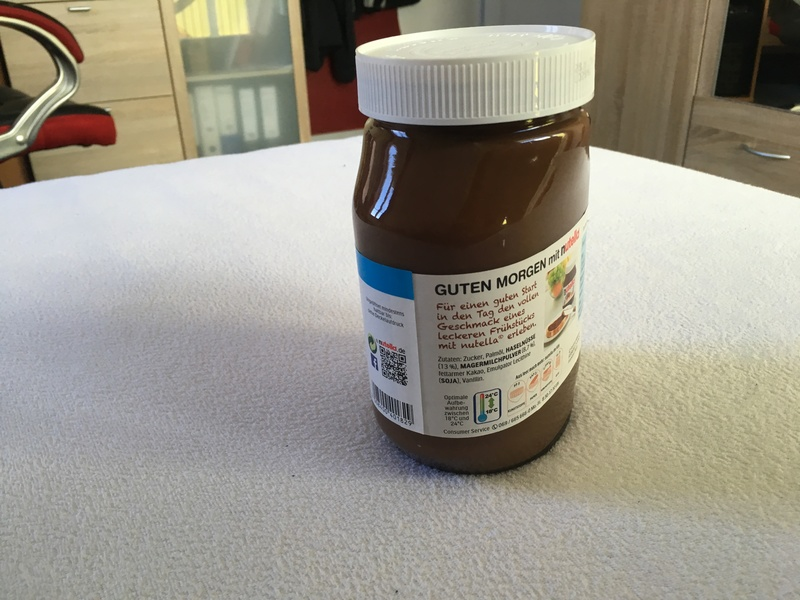nutella: (351, 25, 597, 474)
